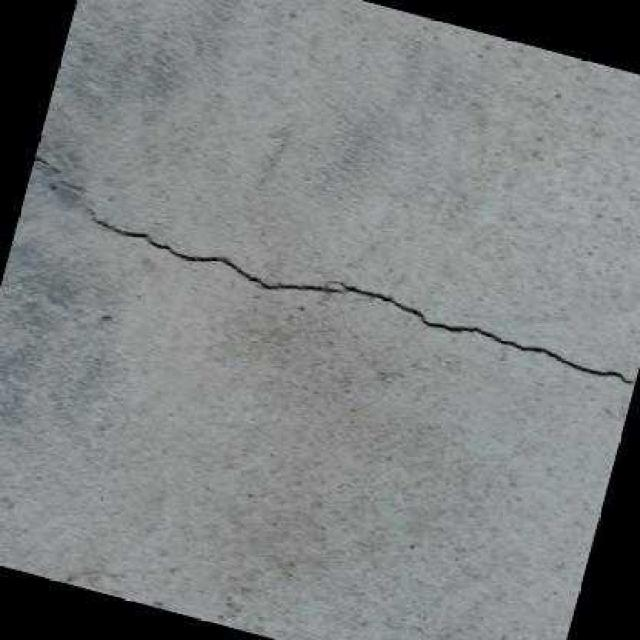D00: (31, 152, 635, 386)
